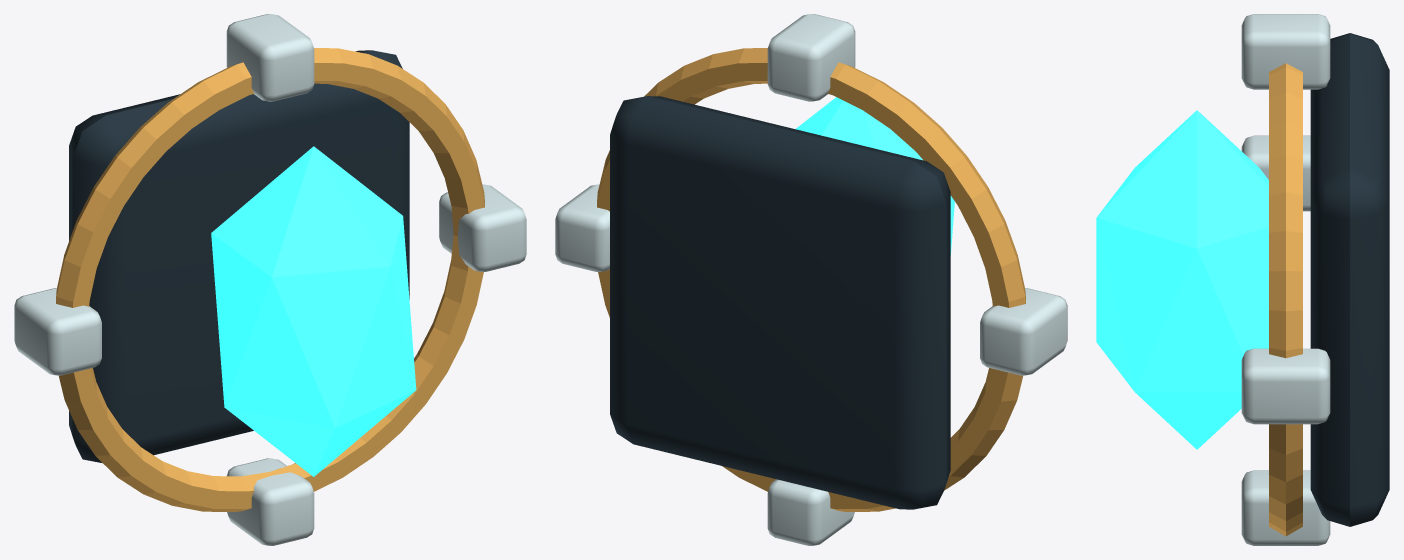
The model's file is beacon.glb.
3 renders of one model, left to right at view 1: azimuth 30°, elevation 25°; view 2: azimuth 150°, elevation 25°; view 3: azimuth 270°, elevation 25°, orthographic. The views are drawn at different scales.
Visible parts, largest first — view 1: Housing.004, Core.005, Crown.002, Receiver3, Receiver0, Receiver1, Receiver2; view 2: Housing.004, Crown.002, Receiver3, Receiver0, Receiver2, Receiver1, Core.005; view 3: Core.005, Housing.004, Crown.002, Receiver1, Receiver0, Receiver2, Receiver3.
Boxes of the visible parts, x1,y1,x2,y2 form: Housing.004: (69,50,409,462); Core.005: (211,146,416,476); Crown.002: (56,48,484,511); Receiver3: (14,288,101,375); Receiver0: (226,14,314,101); Receiver1: (439,184,526,271); Receiver2: (226,458,314,545); Housing.004: (610,96,950,509); Crown.002: (597,48,1025,511); Receiver3: (980,288,1067,375); Receiver0: (767,14,855,101); Receiver2: (767,479,854,545); Receiver1: (555,184,609,271); Core.005: (795,97,954,255); Core.005: (1096,110,1268,449); Housing.004: (1310,33,1389,526); Crown.002: (1269,63,1302,536); Receiver1: (1241,348,1330,424); Receiver0: (1241,14,1330,89); Receiver2: (1241,470,1330,545); Receiver3: (1241,135,1310,211).
Size of the model in its own units: 1.15 by 1.15 by 0.5942.
